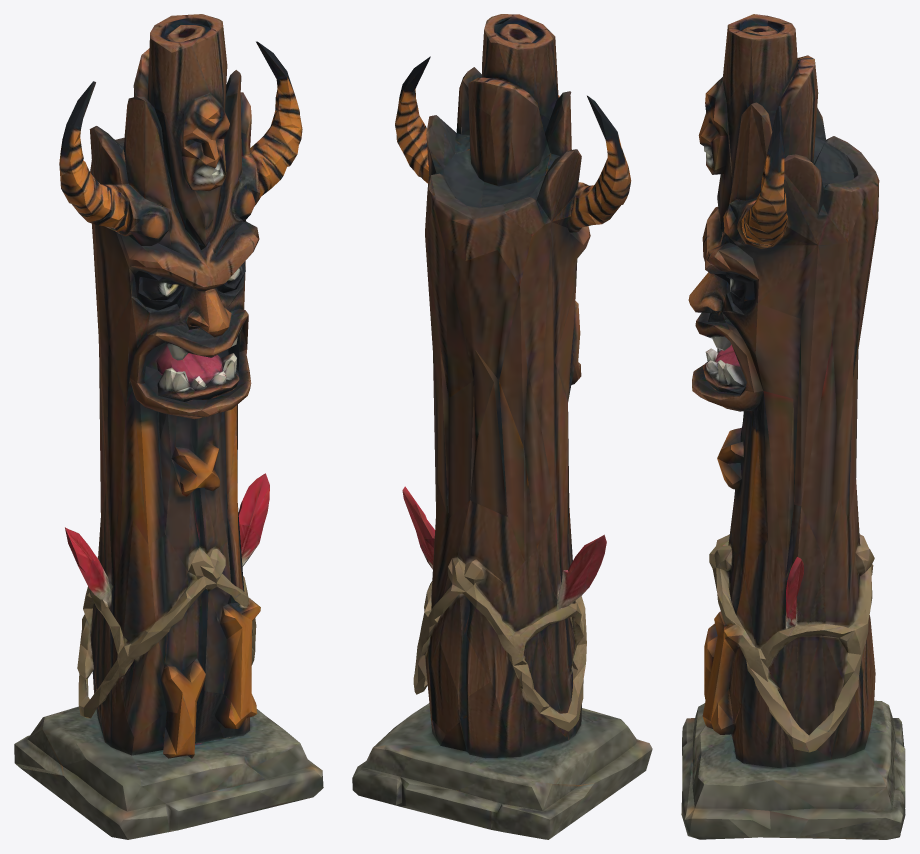
The model's file is tribal-totem.glb.
The picture shows the model from 3 angles, left to right: view 1: azimuth 30°, elevation 25°; view 2: azimuth 150°, elevation 25°; view 3: azimuth 270°, elevation 25°; orthographic projection. The views are drawn at different scales.
Parts seen in each view (by area): view 1: output_unwrapped; view 2: output_unwrapped; view 3: output_unwrapped.
Boxes of the visible parts, x1,y1,x2,y2 form: output_unwrapped: (14, 14, 323, 839); output_unwrapped: (352, 14, 652, 839); output_unwrapped: (681, 14, 905, 839).
Size of the model in its own units: 0.6158 by 1.9 by 0.5014.
Materials: 1 (1 with a texture image).
